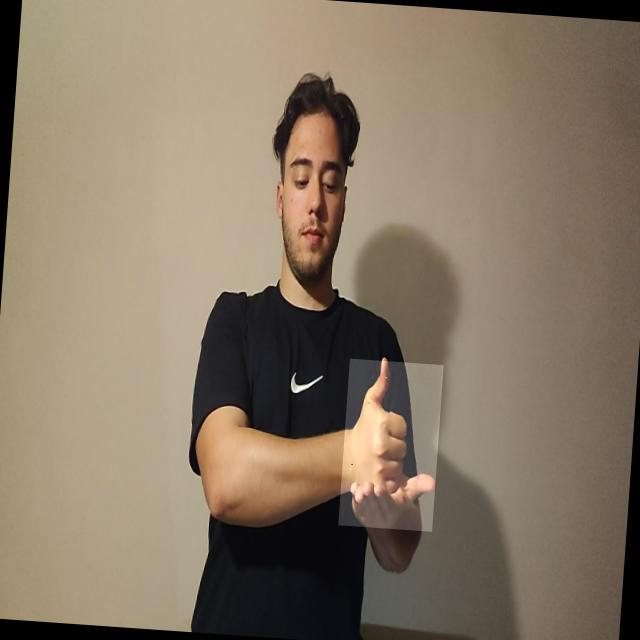help: (338, 358, 443, 531)
